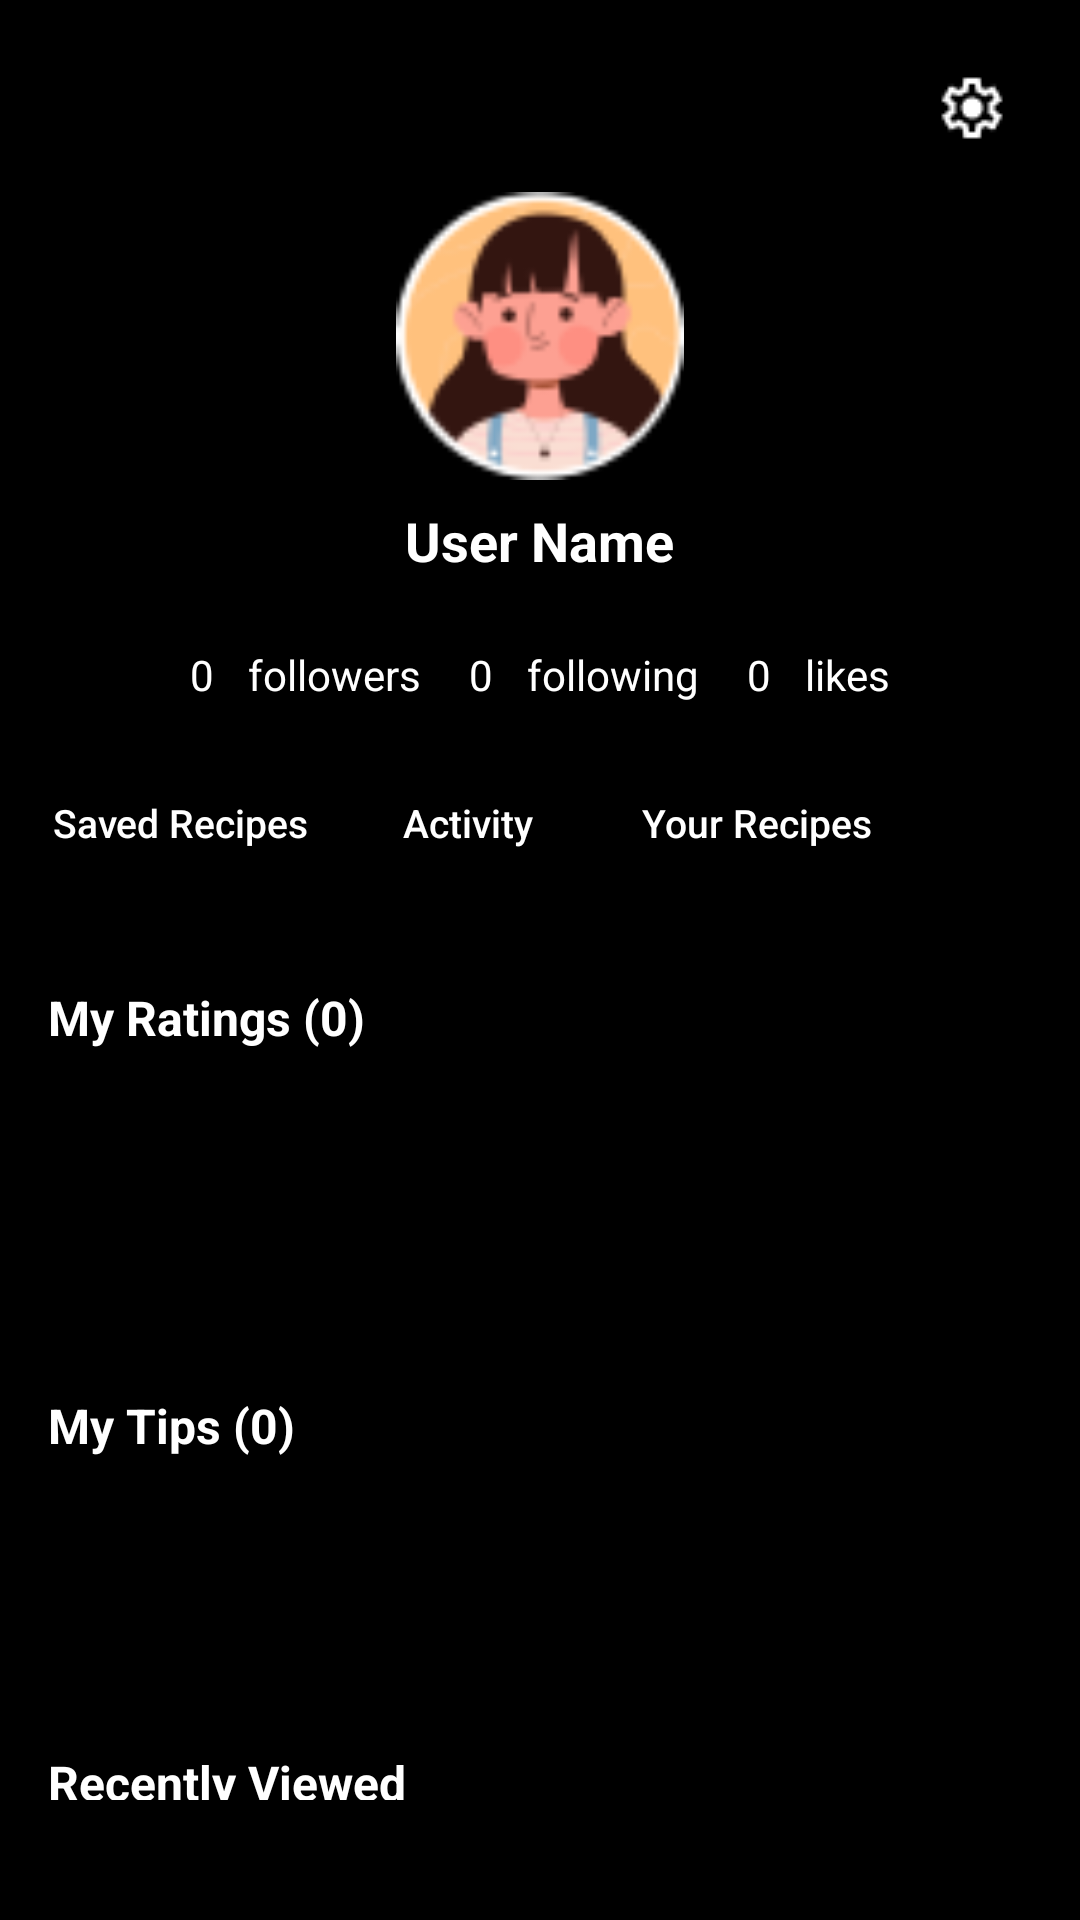

Icons on this 1080 × 1920 Android screen, each with its box as (x1, y1, x2, y2):
Profile Picture: (396, 192, 684, 480)
Settings: (941, 77, 1003, 139)
